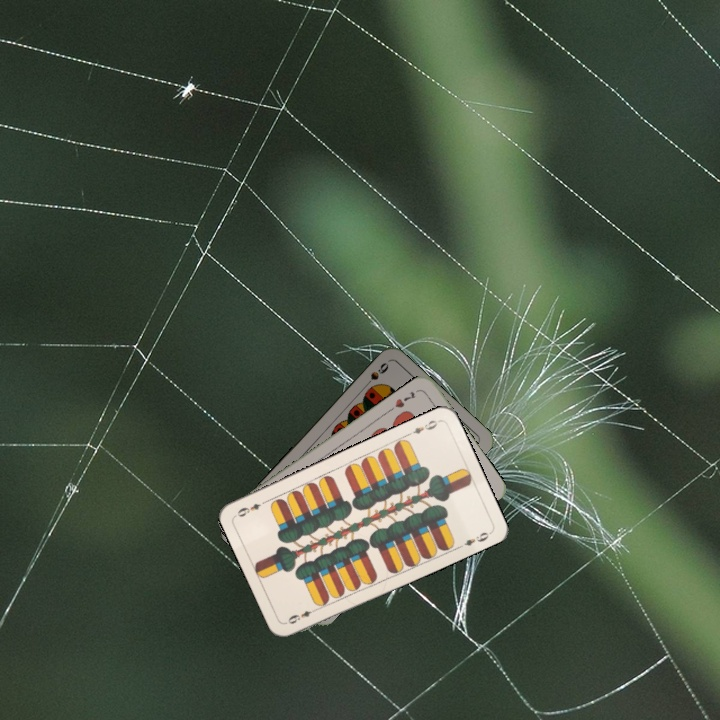E9: (282, 604, 321, 627), (404, 416, 442, 438)
H7: (391, 387, 419, 411)
S9: (359, 358, 391, 391)
